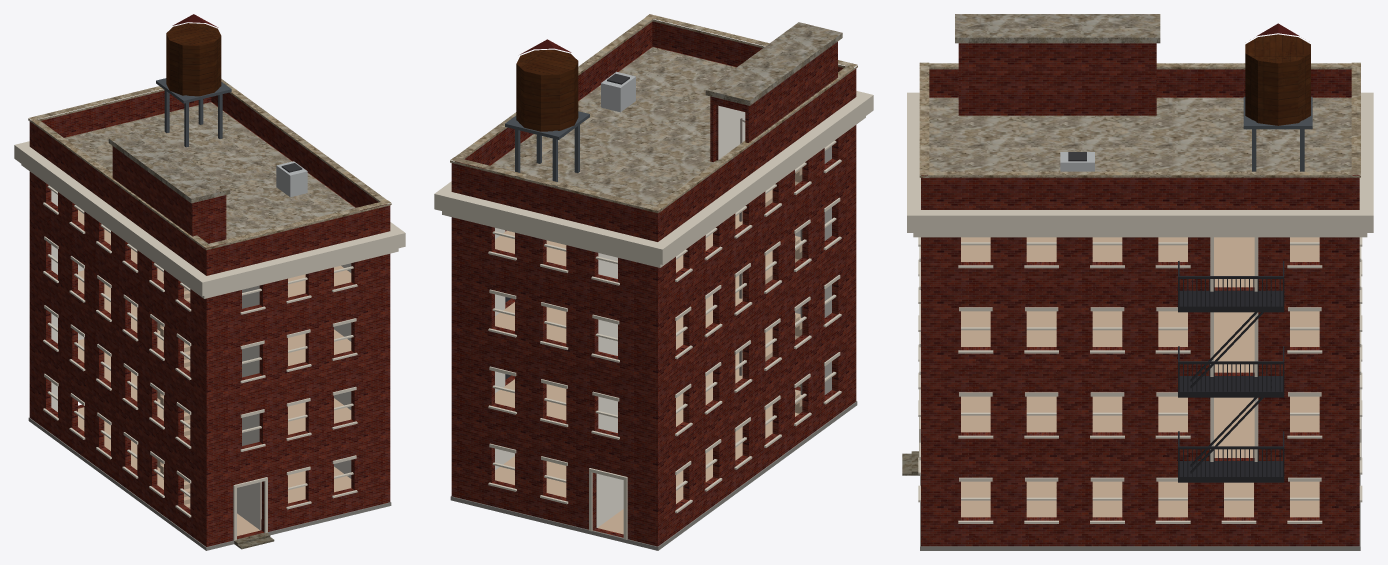
File: mh-tenement.towns-v2.lod0.glb
3 views of the same model, side by side, from view 1: azimuth 30°, elevation 25°; view 2: azimuth 150°, elevation 25°; view 3: azimuth 270°, elevation 25° (orthographic). The views are drawn at different scales.
Parts seen in each view (by area): view 1: mh-tenement; view 2: mh-tenement; view 3: mh-tenement.
Part boxes in pixels (x1,y1,x2,y2): mh-tenement: (14, 14, 405, 550); mh-tenement: (434, 14, 873, 550); mh-tenement: (902, 14, 1373, 550).
Size of the model in its own units: 10.08 by 17.47 by 15.05.
6 materials, 3 textured.
